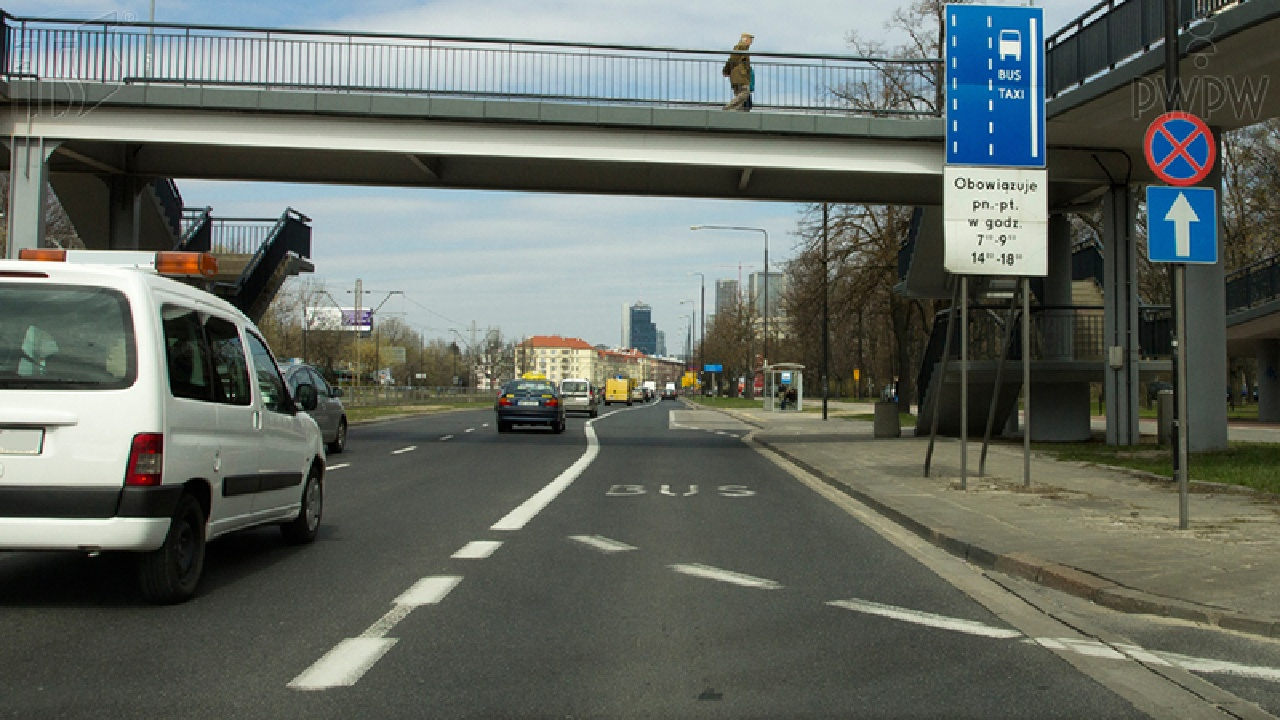B36: (1142, 112, 1216, 188)
D3: (1146, 185, 1220, 263)
